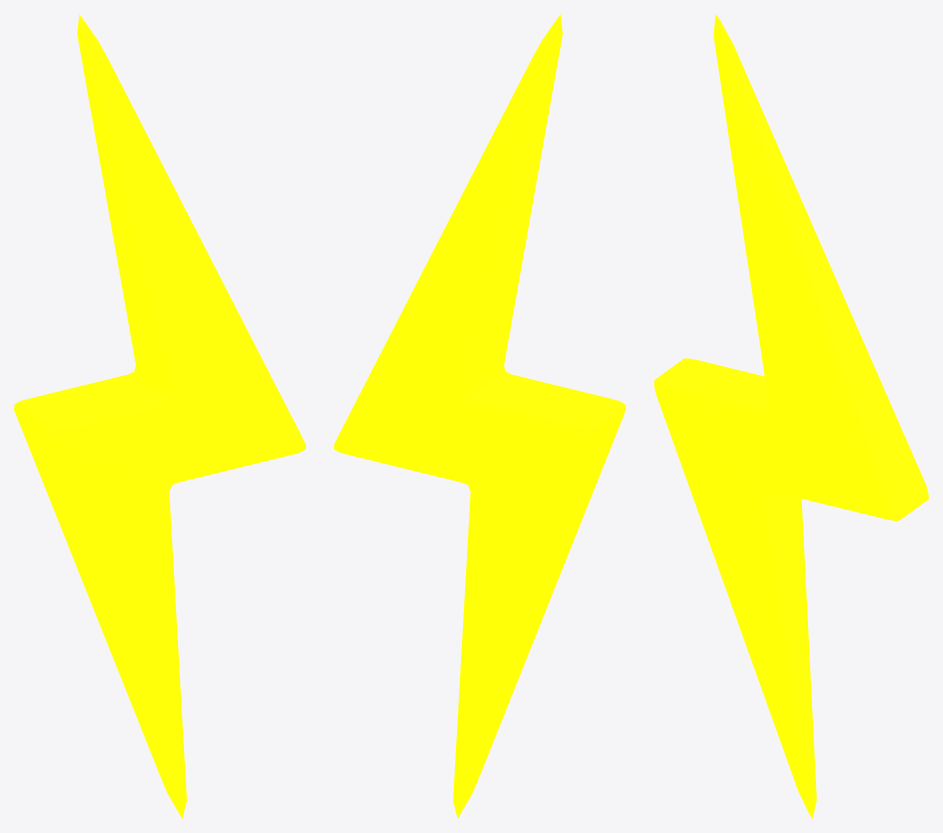
Rendered from Speed.fbx.
The picture shows the model from 3 angles, left to right: view 1: azimuth 30°, elevation 25°; view 2: azimuth 150°, elevation 25°; view 3: azimuth 330°, elevation 25°; orthographic projection. The views are drawn at different scales.
Visible parts, largest first — view 1: Lightning; view 2: Lightning; view 3: Lightning.
Part boxes in pixels (x1,y1,x2,y2): Lightning: (14,14,305,818); Lightning: (334,14,625,818); Lightning: (654,14,928,818).
Bounding box in the file's own units: 34.44 × 104 × 8.83.
